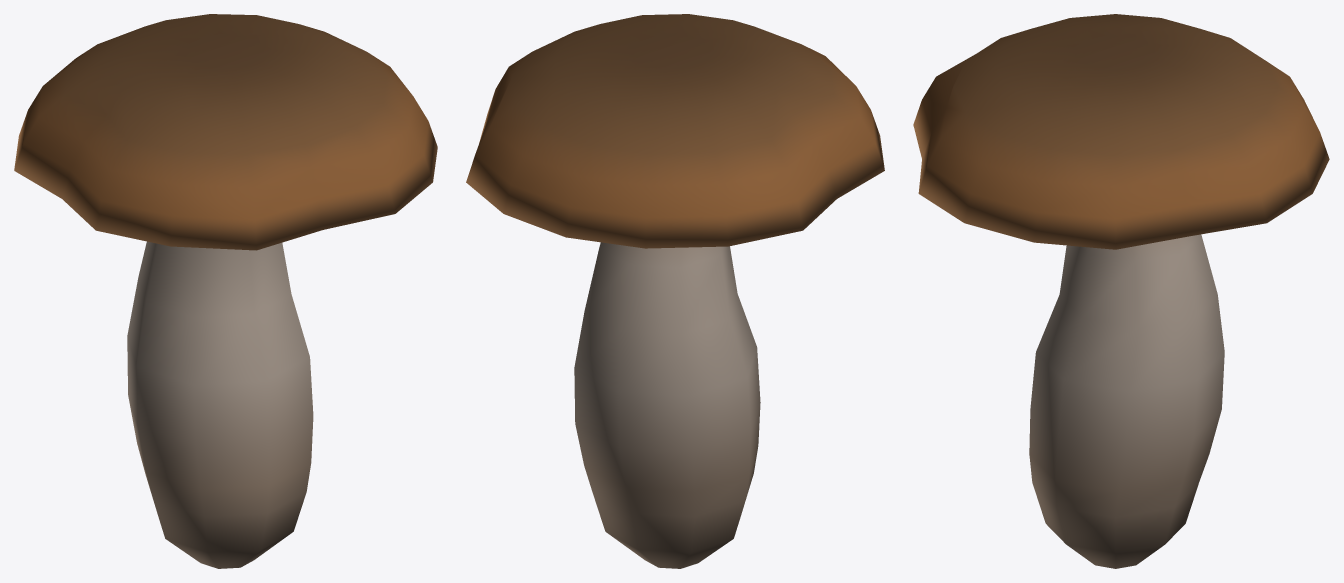
Rendered from plants-mushrooms-porcini-mushroom_v3.glb.
The picture shows the model from 3 angles, left to right: view 1: azimuth 30°, elevation 25°; view 2: azimuth 150°, elevation 25°; view 3: azimuth 270°, elevation 25°; orthographic projection.
Parts seen in each view (by area): view 1: Porcini Mushroom_v3; view 2: Porcini Mushroom_v3; view 3: Porcini Mushroom_v3.
Part boxes in pixels (left/top/right/bottom): Porcini Mushroom_v3: left=14, top=14, right=437, bottom=568; Porcini Mushroom_v3: left=466, top=14, right=884, bottom=568; Porcini Mushroom_v3: left=913, top=14, right=1329, bottom=568.
Size of the model in its own units: 0.1452 by 0.2 by 0.147.
